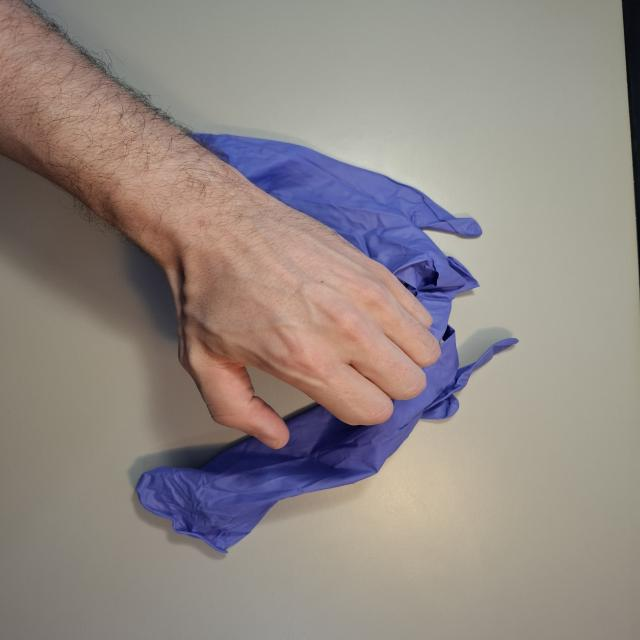glove_off: (159, 205, 446, 454)
